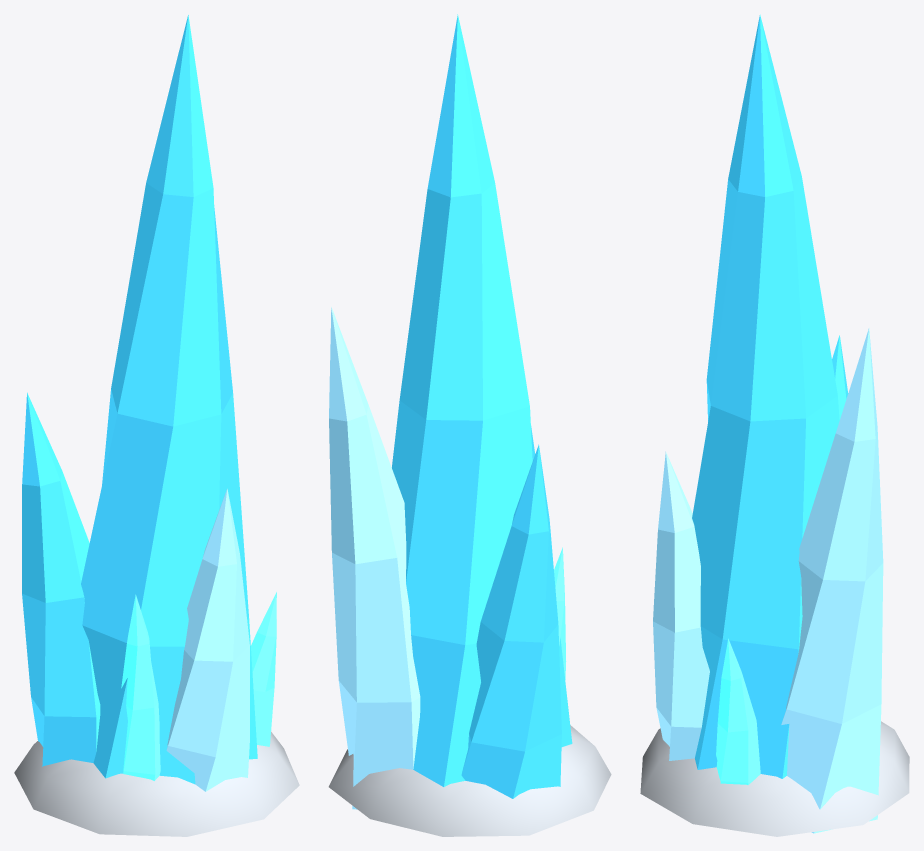
File: icicle_post.glb
3 renders of one model, left to right at view 1: azimuth 30°, elevation 25°; view 2: azimuth 150°, elevation 25°; view 3: azimuth 270°, elevation 25°, orthographic. The views are drawn at different scales.
Visible parts, largest first — view 1: icicle_post; view 2: icicle_post; view 3: icicle_post.
Boxes of the visible parts, box(x1,y1,x2,y2) form: icicle_post: box(14, 15, 299, 836); icicle_post: box(328, 14, 611, 836); icicle_post: box(640, 14, 909, 836).
Bounding box in the file's own units: 0.6329 × 1.87 × 0.5842.
